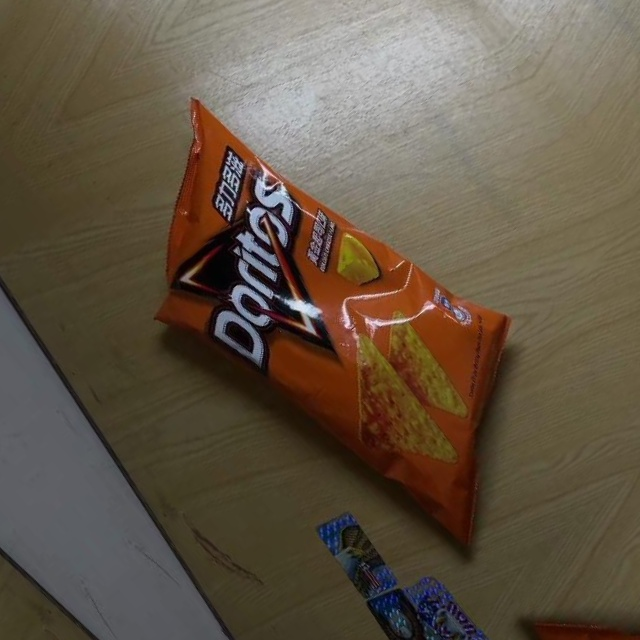Doritos: (58, 32, 612, 618)
